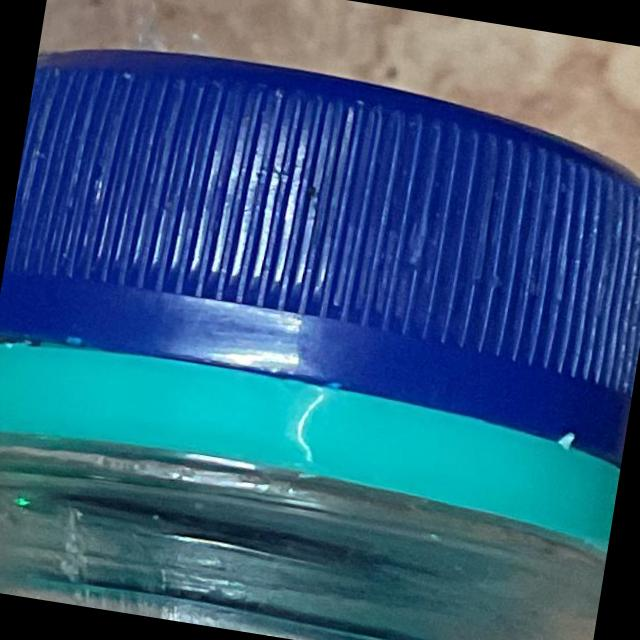Good-cap-Df0S: (0, 7, 640, 570)
